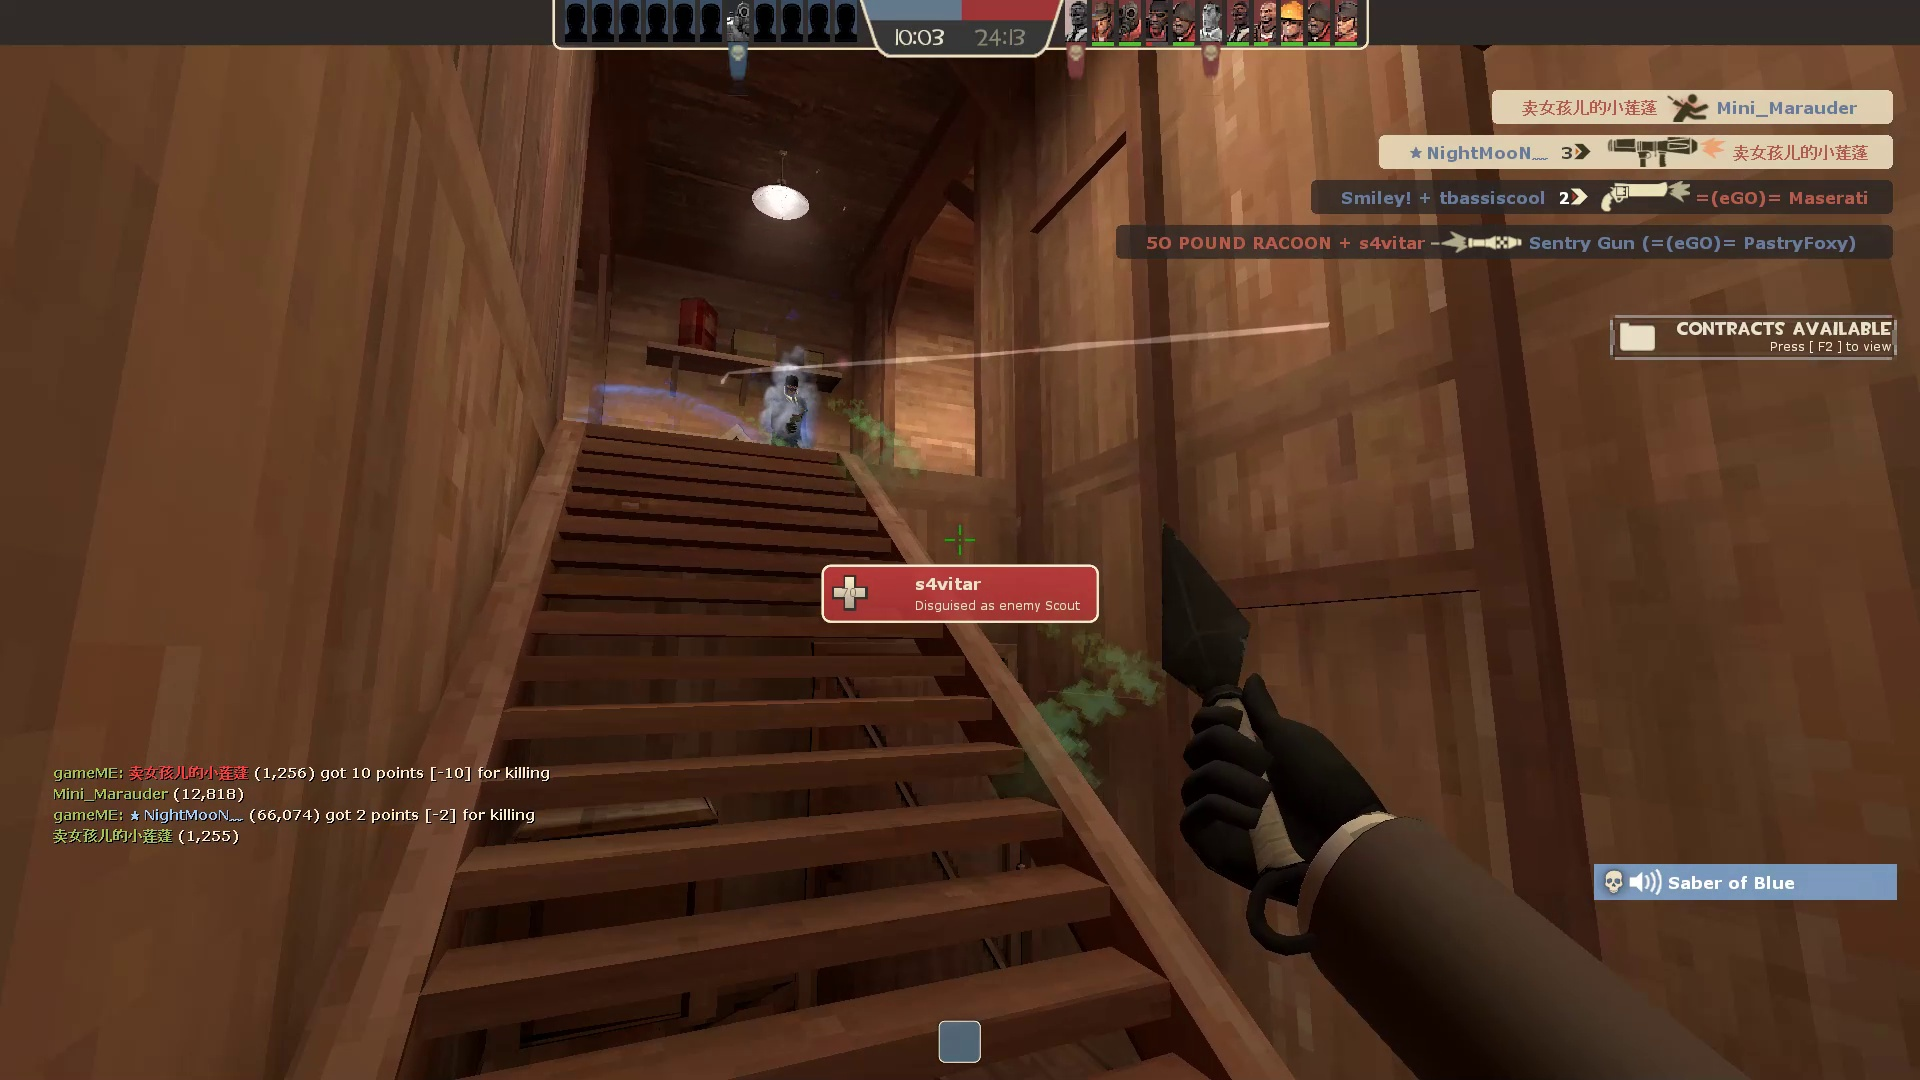blu_spy: (764, 376, 820, 465)
